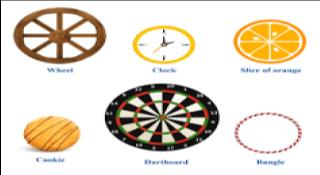Circle: (100, 81, 223, 154), (8, 5, 110, 65), (228, 16, 309, 64), (229, 110, 306, 156), (128, 23, 196, 65), (20, 114, 83, 153)
